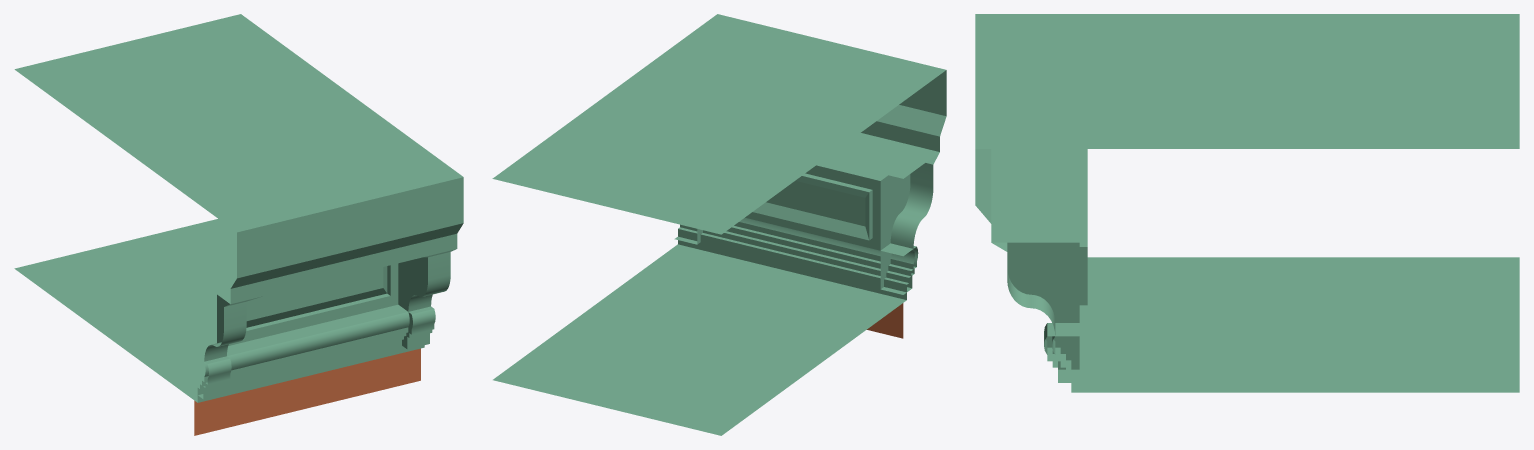
Rendered from object_B2_Roof_side.glb.
3 renders of one model, left to right at view 1: azimuth 30°, elevation 25°; view 2: azimuth 150°, elevation 25°; view 3: azimuth 270°, elevation 25°, orthographic. The views are drawn at different scales.
Visible parts, largest first — view 1: B2 Roof side; view 2: B2 Roof side; view 3: B2 Roof side.
Part boxes in pixels (<box>): B2 Roof side: <box>14,14,463,435</box>; B2 Roof side: <box>492,14,946,435</box>; B2 Roof side: <box>975,14,1519,392</box>.
Size of the model in its own units: 2 by 1.98 by 3.4.
